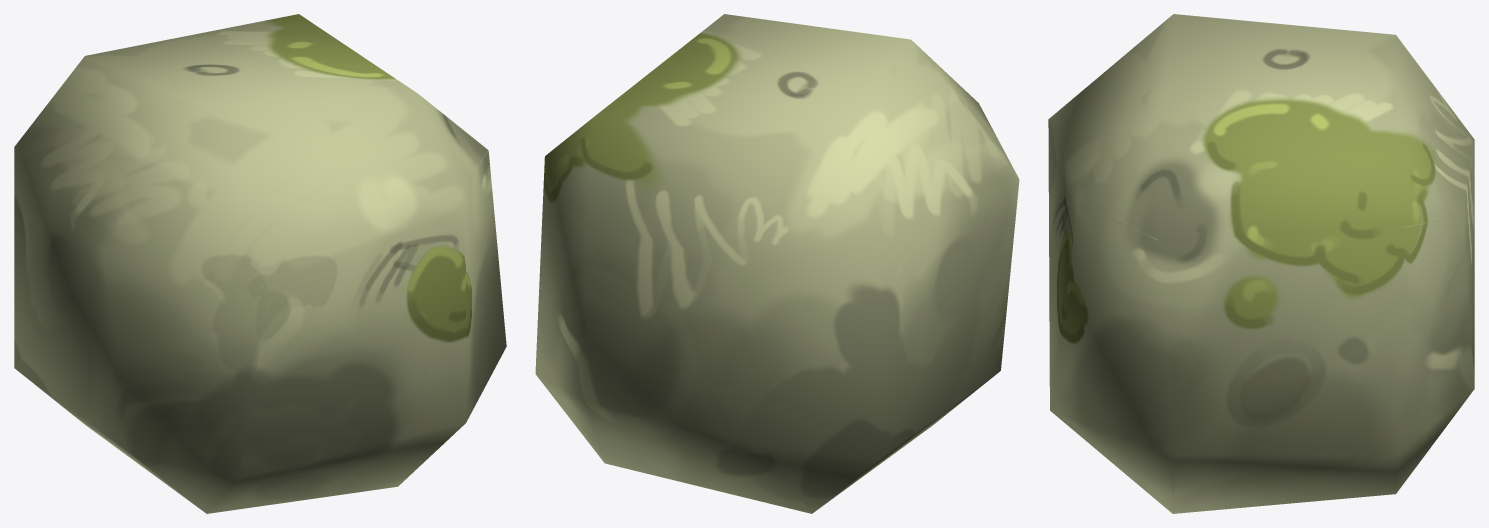
Rendered from StoneMesh.fbx.
The picture shows the model from 3 angles, left to right: view 1: azimuth 30°, elevation 25°; view 2: azimuth 150°, elevation 25°; view 3: azimuth 270°, elevation 25°; orthographic projection. The views are drawn at different scales.
Visible parts, largest first — view 1: Cube; view 2: Cube; view 3: Cube.
Part boxes in pixels (left/top/right/bottom): Cube: left=14, top=14, right=506, bottom=513; Cube: left=535, top=14, right=1019, bottom=513; Cube: left=1048, top=14, right=1474, bottom=513.
Bounding box in the file's own units: 29.22 × 29.22 × 27.39.
